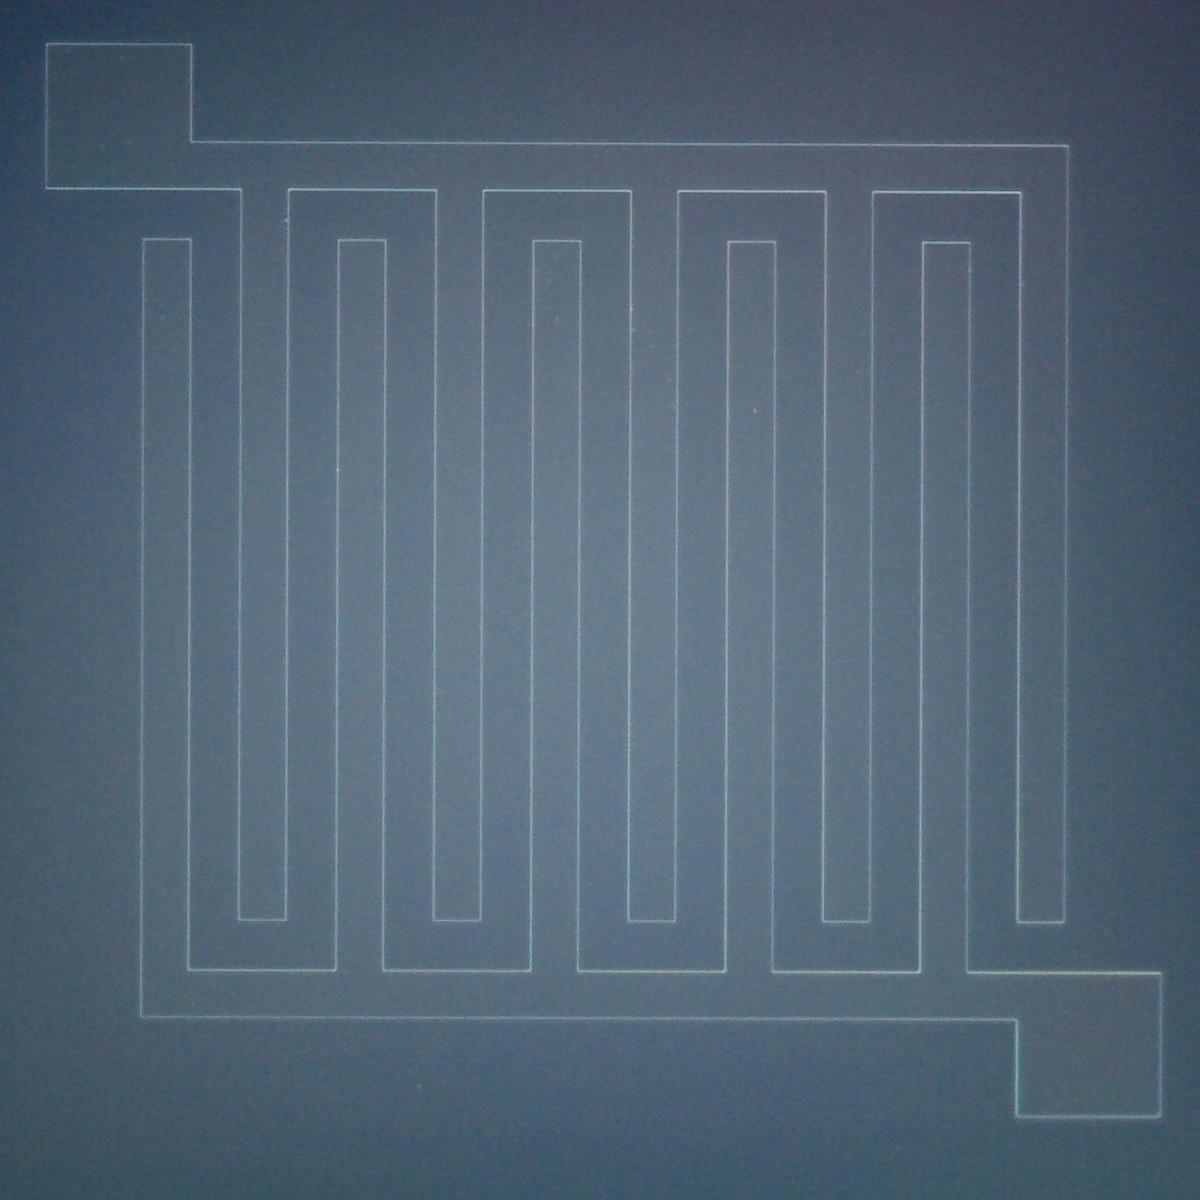s_point: (542, 305, 570, 334), (748, 401, 763, 419), (412, 1079, 426, 1096)
